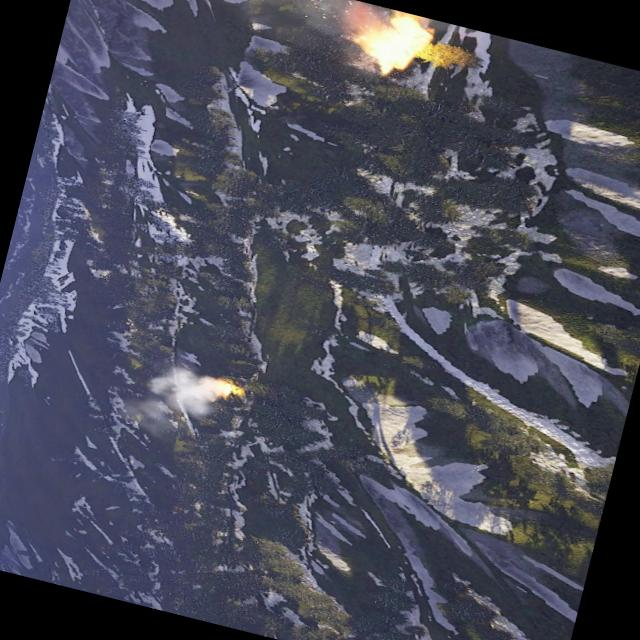fire: (352, 1, 440, 80), (210, 374, 243, 398)
smoke: (121, 352, 224, 442), (272, 0, 372, 48)
